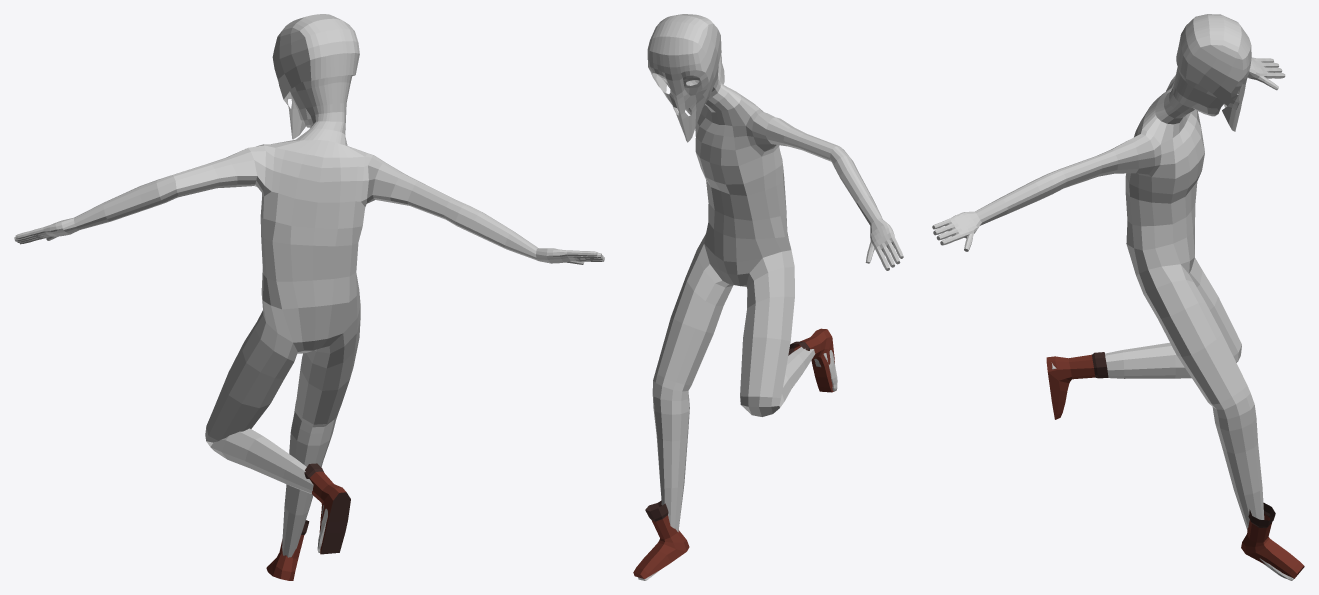
Rendered from saltoadelante_000123.obj.
3 views of the same model, side by side, from view 1: azimuth 30°, elevation 25°; view 2: azimuth 150°, elevation 25°; view 3: azimuth 270°, elevation 25° (orthographic). The views are drawn at different scales.
Parts seen in each view (by area): view 1: Plane.002_Plane.001, Plane.004, Plane.003; view 2: Plane.002_Plane.001, Plane.003, Plane.004; view 3: Plane.002_Plane.001, Plane.004, Plane.003.
Boxes of the visible parts, <box> form: Plane.002_Plane.001: <box>14,14,604,557</box>; Plane.004: <box>304,463,350,554</box>; Plane.003: <box>266,520,309,580</box>; Plane.002_Plane.001: <box>638,14,903,580</box>; Plane.003: <box>633,500,689,578</box>; Plane.004: <box>788,328,834,392</box>; Plane.002_Plane.001: <box>932,14,1293,580</box>; Plane.004: <box>1046,352,1108,419</box>; Plane.003: <box>1241,502,1304,578</box>.
Bounding box in the file's own units: 5.04 × 6.9 × 4.18.
